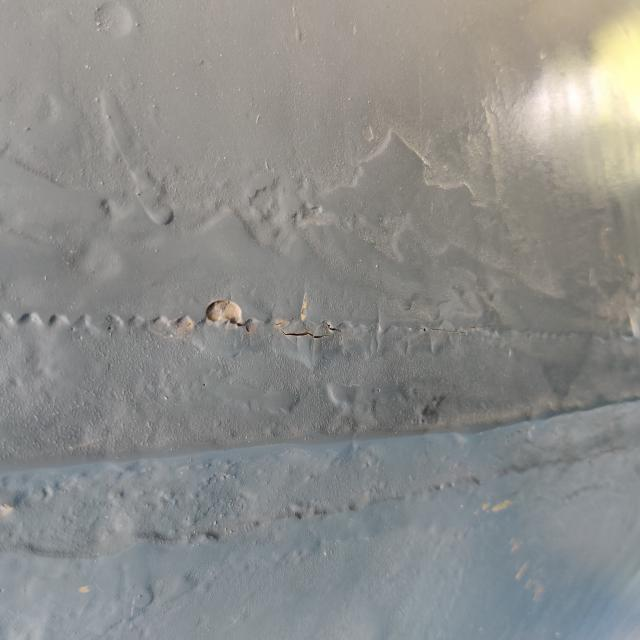crack: (182, 293, 366, 350)
